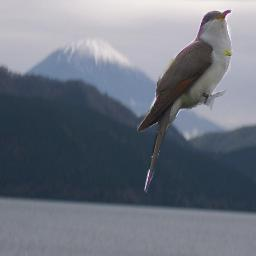Cuckoo: (136, 9, 233, 194)
